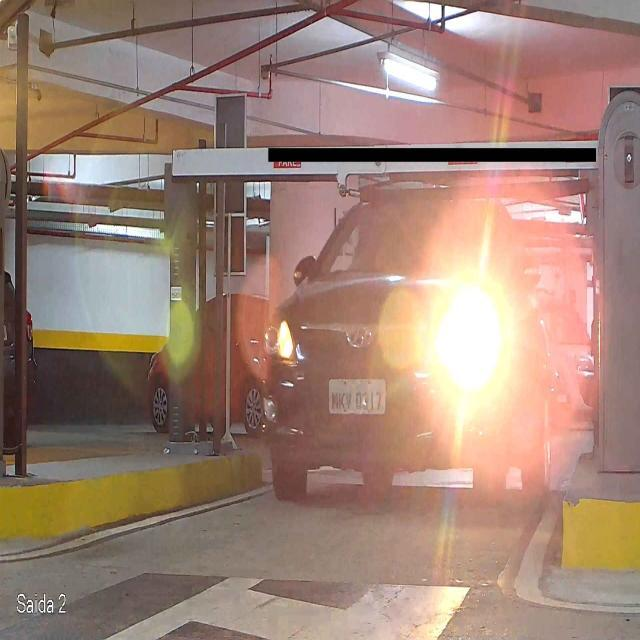old_plate: (327, 377, 388, 416)
